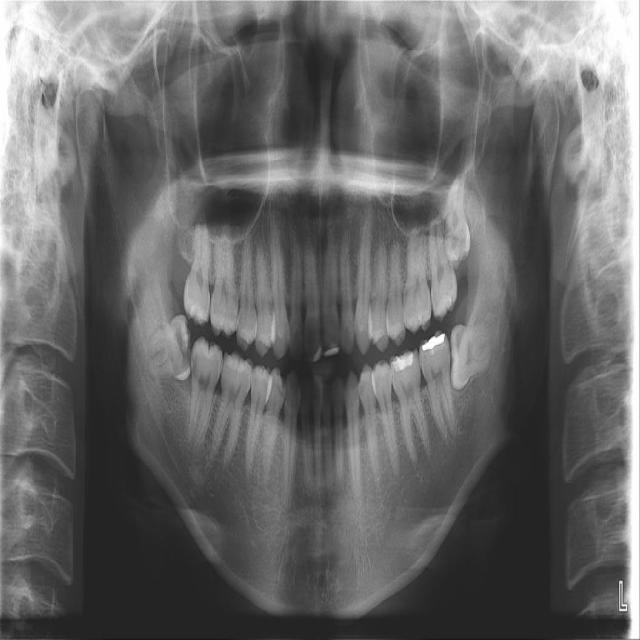52: (413, 328, 457, 384), (386, 346, 425, 398), (167, 326, 194, 376), (190, 350, 199, 378)
73: (586, 554, 588, 576)
BioHorizons Implant: (426, 201, 459, 322)
BioLife Implant: (439, 169, 472, 272)
Biomet 3i Implant: (450, 319, 493, 390)
Blue Sky Bio Implant: (417, 329, 456, 438)
Caries: (184, 209, 210, 328)
Implant: (186, 335, 224, 444)
Keystone Dental Implant: (145, 314, 193, 382)
